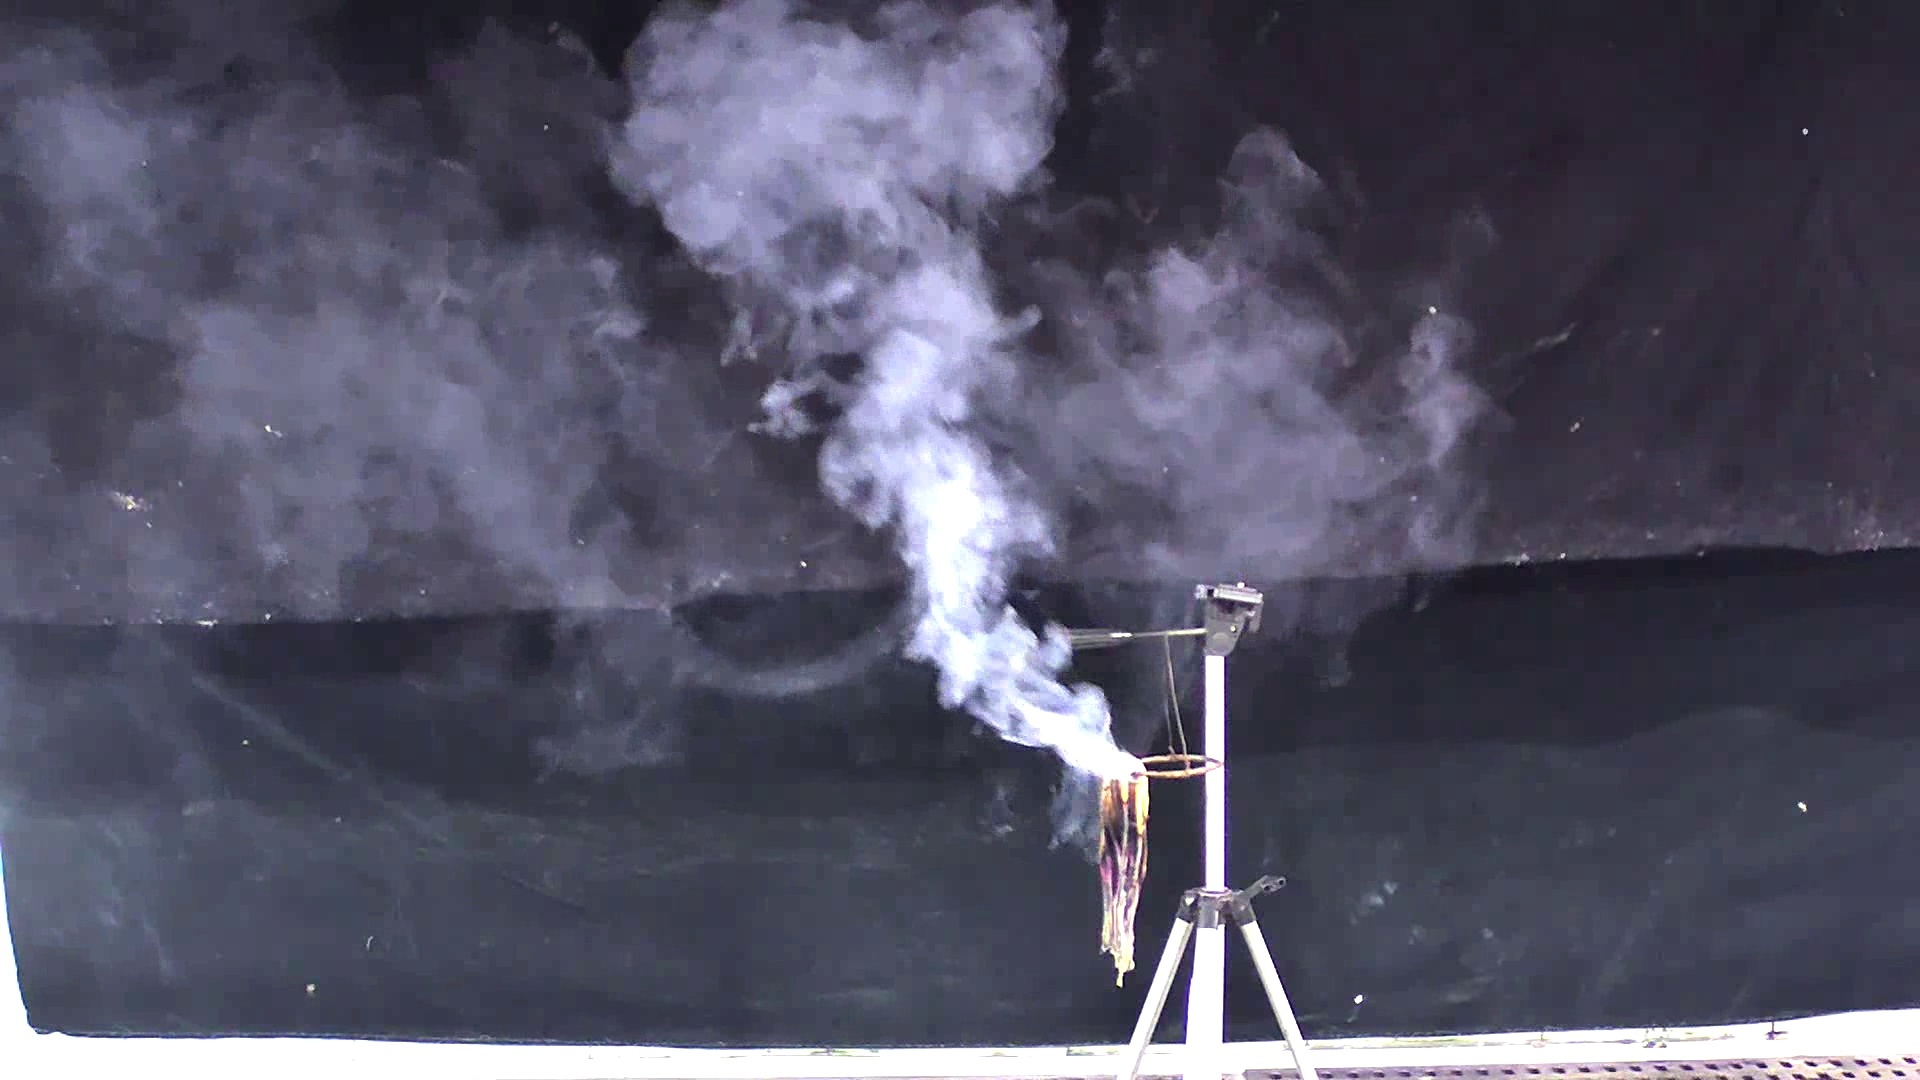smoke: (574, 13, 1495, 799)
